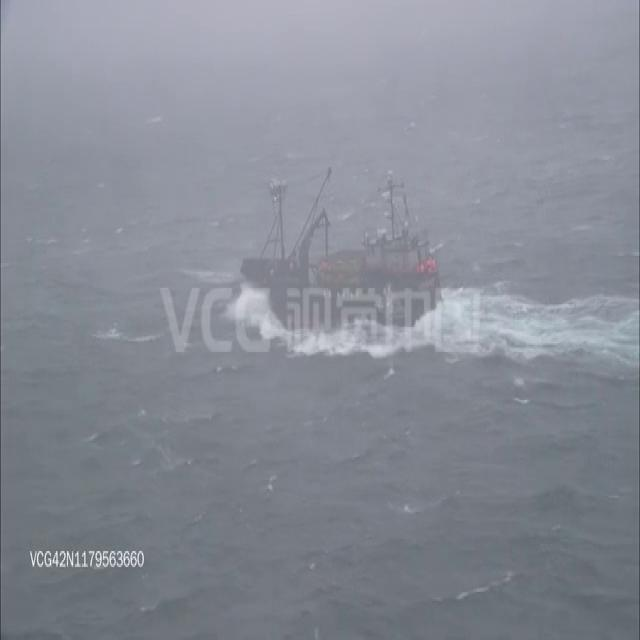houseboat: (237, 170, 438, 330)
